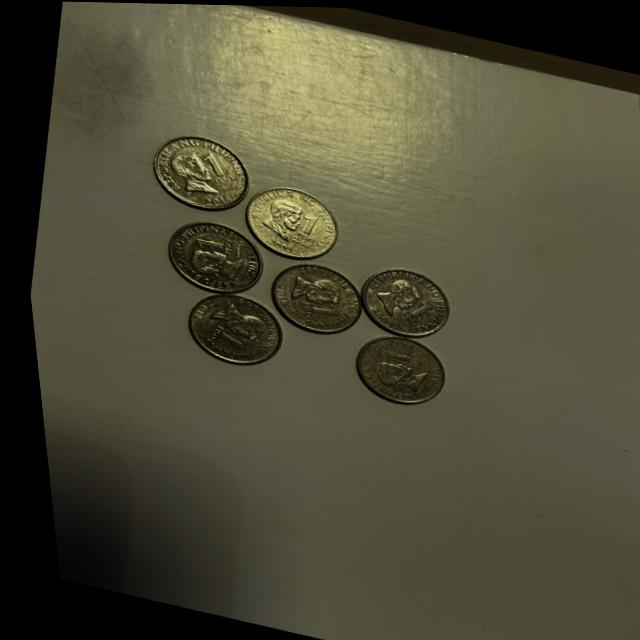1_Old_Front: (187, 146, 245, 192), (190, 313, 247, 359), (276, 204, 330, 245), (382, 291, 436, 328), (282, 293, 339, 327), (367, 337, 422, 371), (184, 231, 226, 256)
